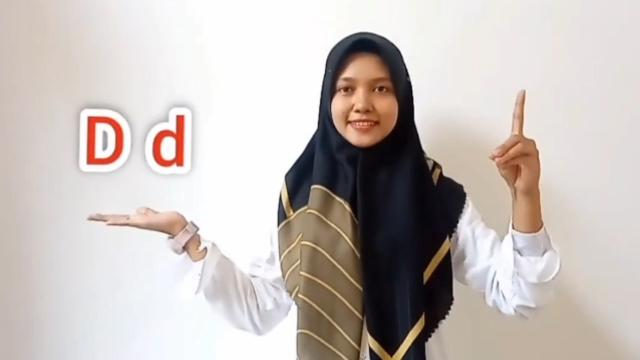D: (486, 86, 544, 198)
